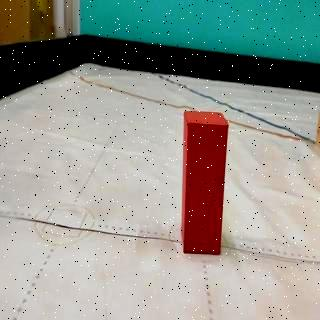redbox: (182, 111, 229, 255)
